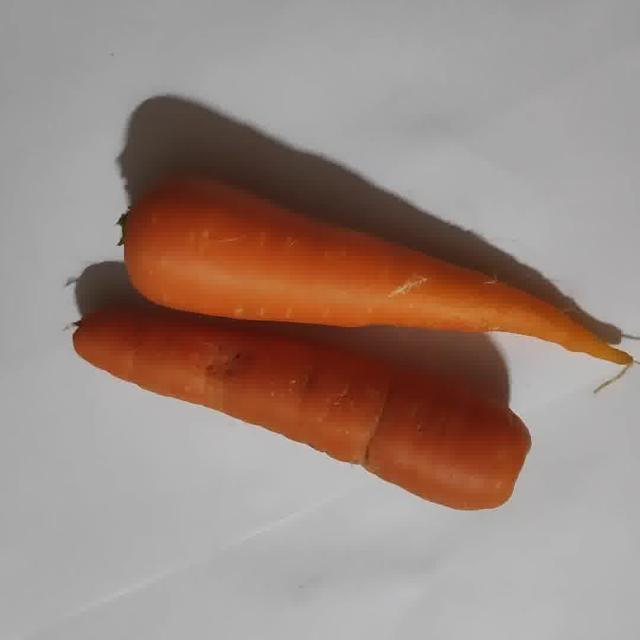Carrot: (125, 181, 630, 364), (73, 311, 530, 508)
